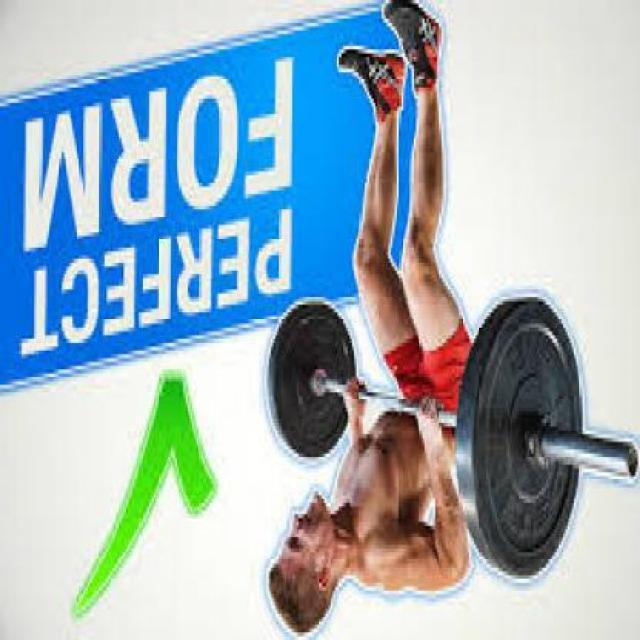Barbell: (614, 422, 640, 496)
